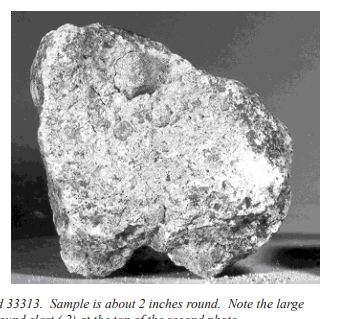Breccia: (15, 13, 319, 284), (52, 52, 277, 253)
